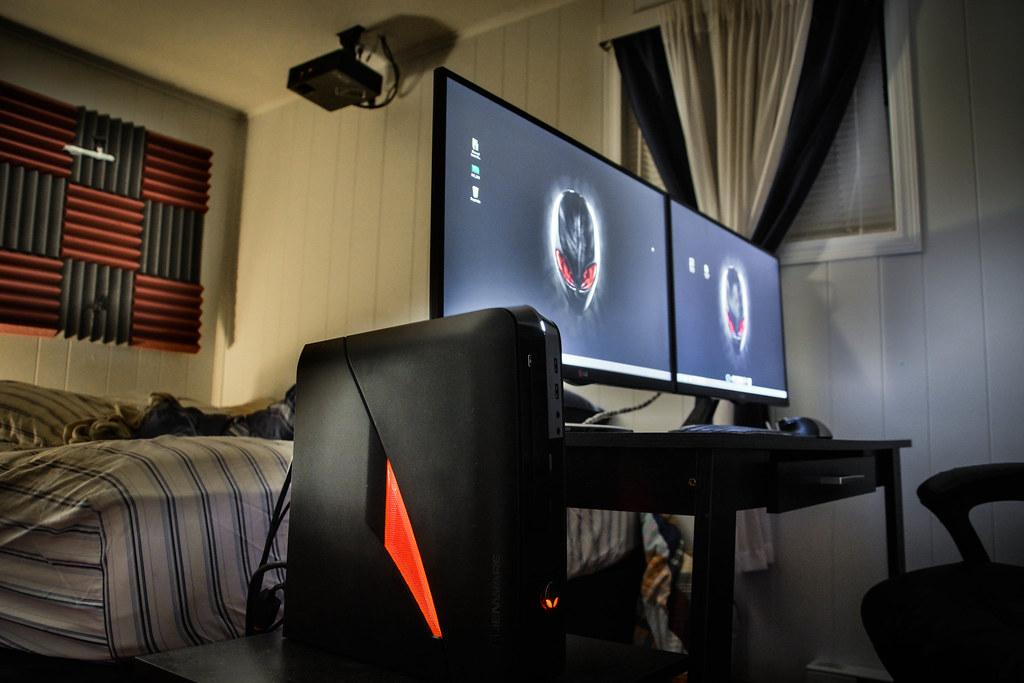computer: (423, 60, 806, 417), (282, 304, 569, 681)
